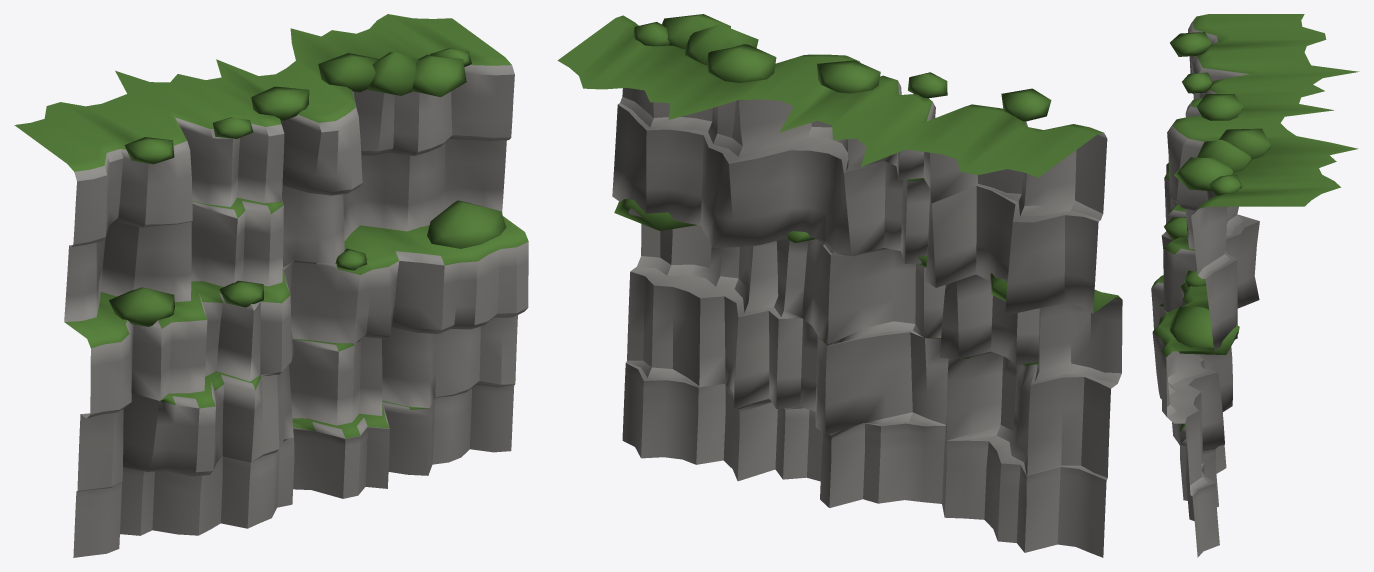
Rendered from cliff_straight_30.glb.
3 renders of one model, left to right at view 1: azimuth 30°, elevation 25°; view 2: azimuth 150°, elevation 25°; view 3: azimuth 270°, elevation 25°, orthographic. The views are drawn at different scales.
Parts seen in each view (by area): view 1: cliff_straight_30; view 2: cliff_straight_30; view 3: cliff_straight_30.
Boxes of the visible parts, <box> form: cliff_straight_30: <box>14,14,528,557</box>; cliff_straight_30: <box>557,14,1122,557</box>; cliff_straight_30: <box>1151,14,1359,557</box>.
Bounding box in the file's own units: 40 × 36.13 × 18.3.
